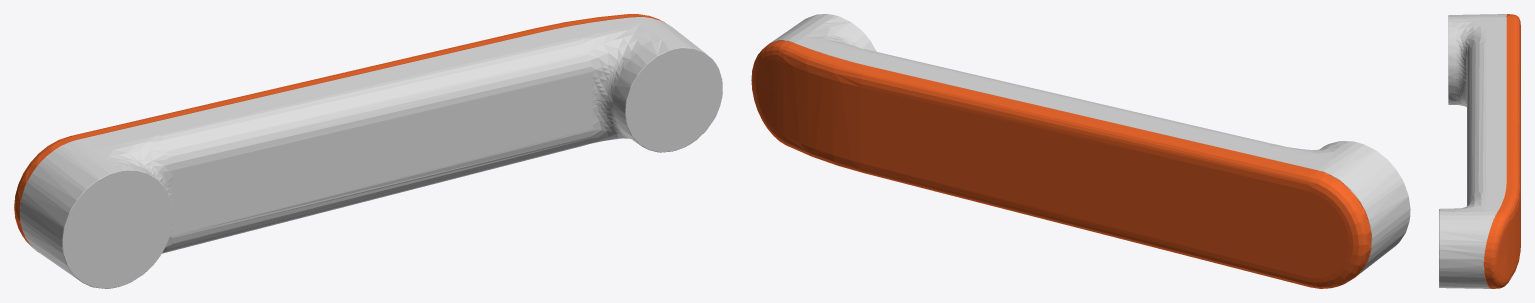
3 views of the same model, side by side, from view 1: azimuth 30°, elevation 25°; view 2: azimuth 150°, elevation 25°; view 3: azimuth 270°, elevation 25° (orthographic). The views are drawn at different scales.
Parts seen in each view (by area): view 1: 9; view 2: 9; view 3: 9.
Part boxes in pixels (bbox=[...]): 9: bbox=[14, 14, 722, 288]; 9: bbox=[751, 14, 1410, 288]; 9: bbox=[1439, 14, 1520, 288].
Bounding box in the file's own units: 0.4895 × 0.0846 × 0.0752.
